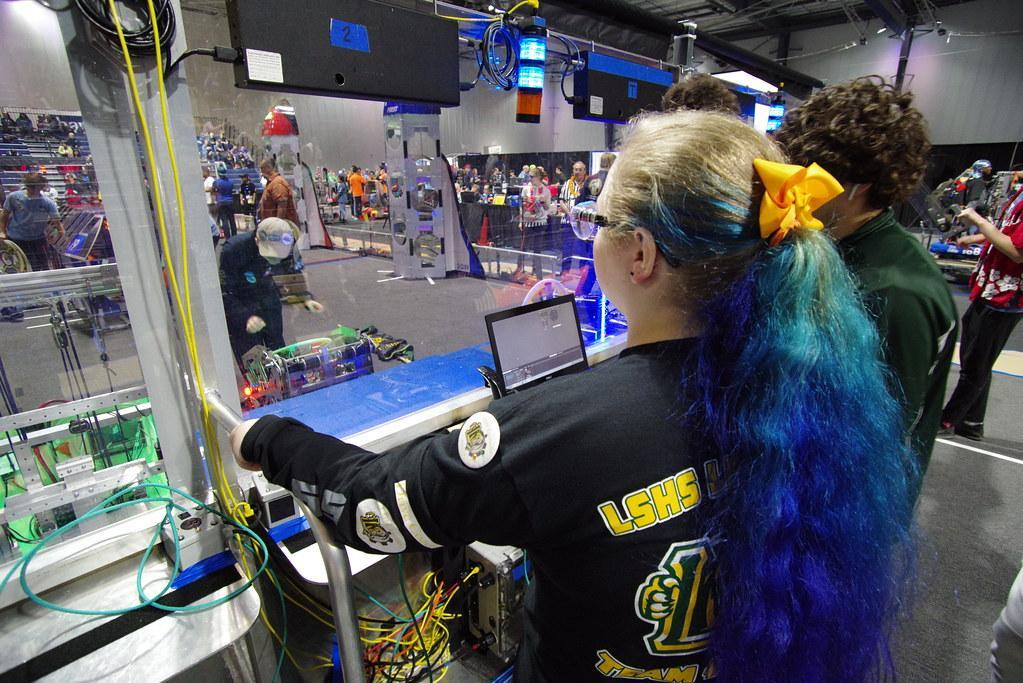robot: (0, 252, 209, 580), (227, 303, 389, 440)
